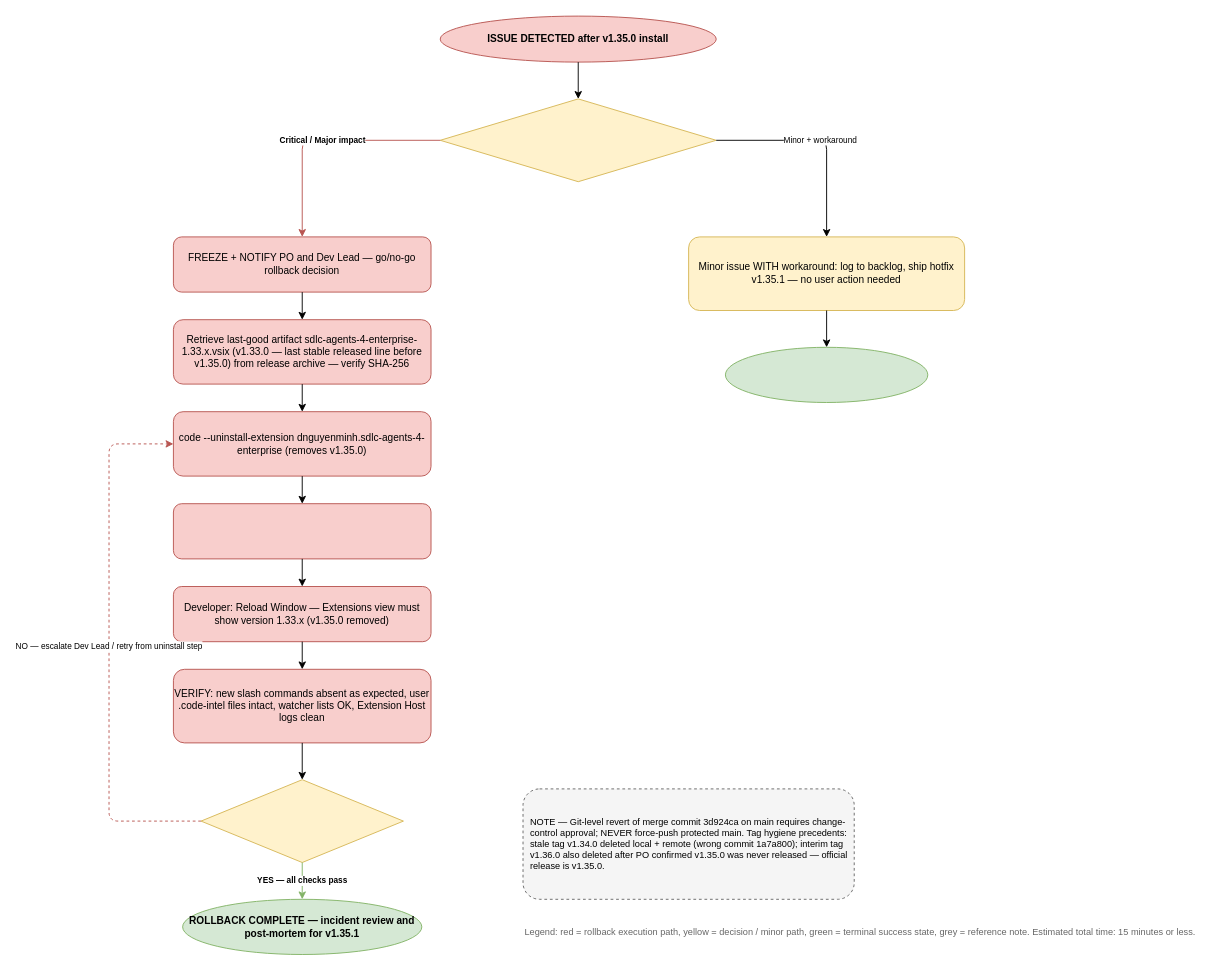
Some shapes in this 1212 by 971 pixel diagram are drawn without their labels. The shapes that lost their labels are listed below. From the top down, each one's box as (x1, y1, x2, y2) in pixels, then its label:
(439, 98, 716, 182): Severity assessment
(724, 346, 928, 402): RESOLVED in next patch release
(172, 503, 431, 559): code --install-extension sdlc-agents-4-enterprise-1.33.x.vsix
(200, 779, 403, 862): Rollback verified?
